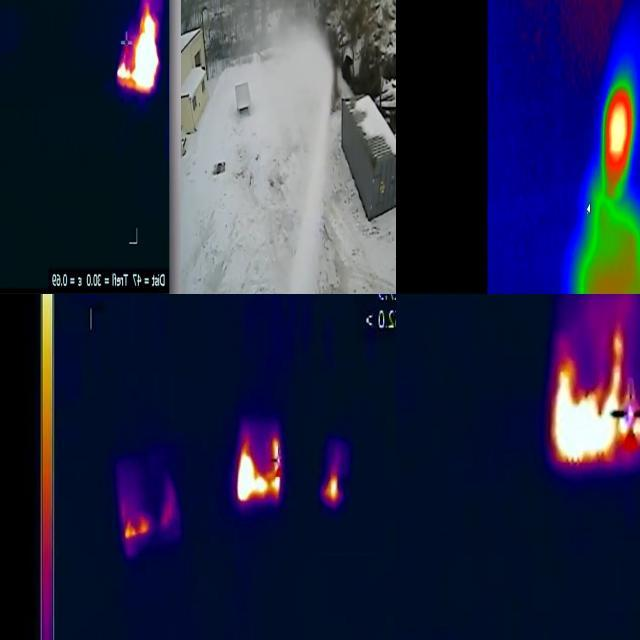fire: (548, 329, 640, 469), (600, 76, 640, 190), (117, 12, 161, 96), (236, 431, 283, 509), (120, 482, 171, 544), (323, 467, 341, 508)
